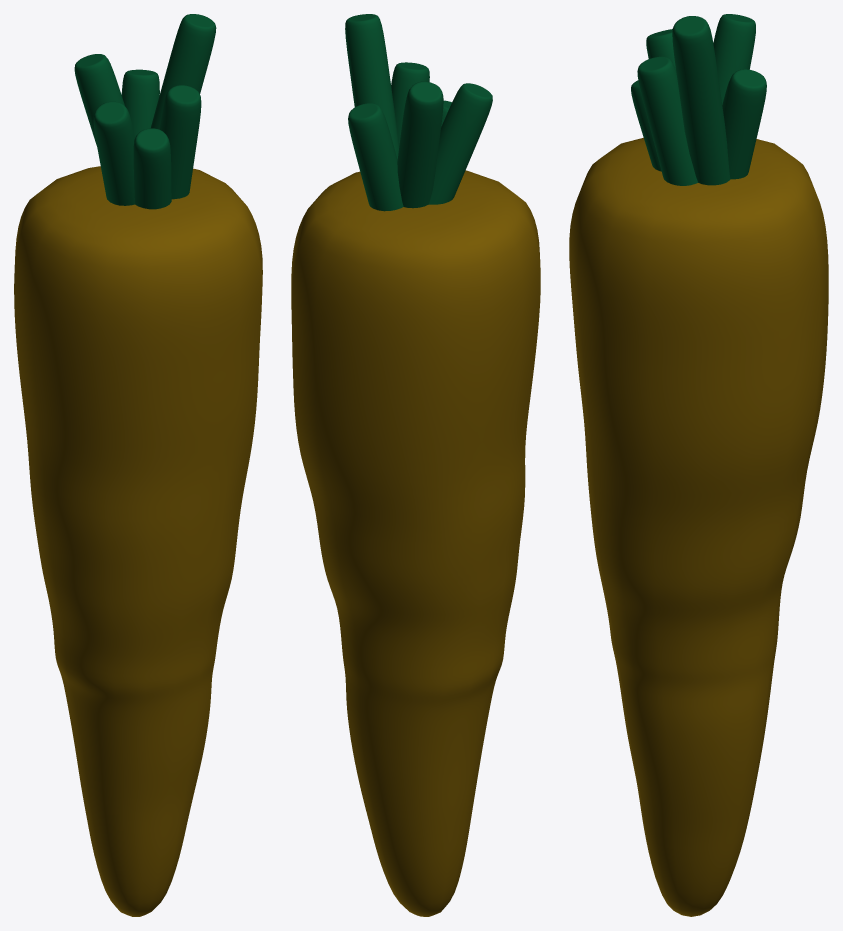
File: Carrott.fbx
3 views of the same model, side by side, from view 1: azimuth 30°, elevation 25°; view 2: azimuth 150°, elevation 25°; view 3: azimuth 270°, elevation 25° (orthographic). The views are drawn at different scales.
Parts seen in each view (by area): view 1: Carrott1, pCylinder1, pCylinder2, pCylinder4, pCylinder6, pCylinder5, pCylinder3; view 2: Carrott1, pCylinder5, pCylinder1, pCylinder3, pCylinder4, pCylinder2; view 3: Carrott1, pCylinder4, pCylinder2, pCylinder3, pCylinder5, pCylinder6, pCylinder1.
Part boxes in pixels (bbox=[...]): Carrott1: bbox=[14, 166, 262, 916]; pCylinder1: bbox=[93, 101, 134, 205]; pCylinder2: bbox=[159, 85, 201, 199]; pCylinder4: bbox=[151, 14, 216, 129]; pCylinder6: bbox=[133, 128, 171, 209]; pCylinder5: bbox=[74, 54, 124, 145]; pCylinder3: bbox=[121, 69, 159, 137]; Carrott1: bbox=[291, 170, 540, 916]; pCylinder5: bbox=[397, 81, 443, 208]; pCylinder1: bbox=[429, 83, 492, 204]; pCylinder3: bbox=[348, 103, 403, 211]; pCylinder4: bbox=[345, 14, 399, 159]; pCylinder2: bbox=[391, 62, 429, 145]; Carrott1: bbox=[569, 137, 828, 916]; pCylinder4: bbox=[672, 16, 730, 185]; pCylinder2: bbox=[637, 56, 697, 185]; pCylinder3: bbox=[722, 69, 766, 179]; pCylinder5: bbox=[713, 14, 755, 104]; pCylinder6: bbox=[631, 80, 661, 171]; pCylinder1: bbox=[646, 29, 675, 68].
Bounding box in the file's own units: 1.51 × 5.94 × 1.51.
